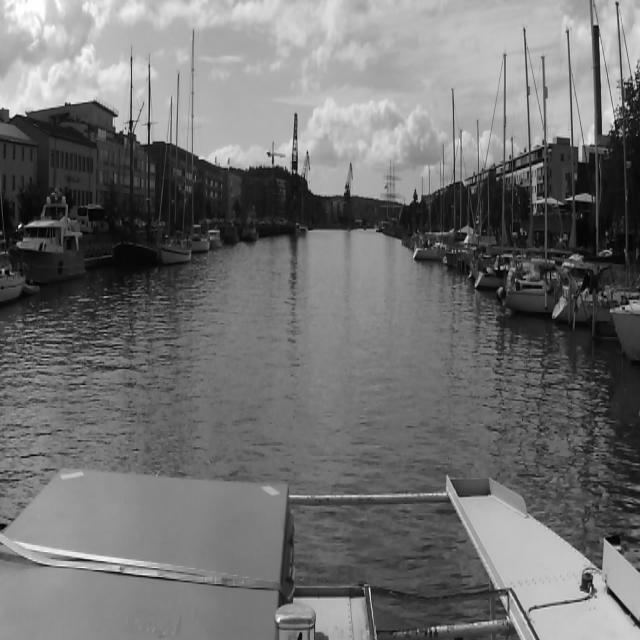ship: (550, 2, 630, 324), (408, 86, 484, 266), (109, 45, 157, 282), (13, 188, 87, 290), (160, 68, 190, 263), (188, 27, 210, 254), (216, 218, 238, 247), (209, 228, 223, 250)
